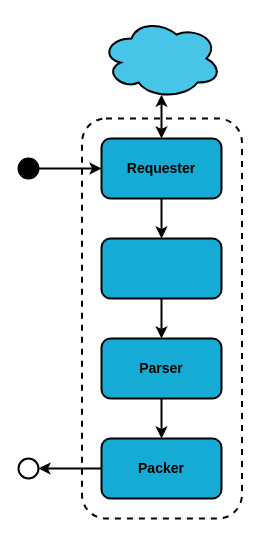
This 260x536 diagram has some shape labels left out. The shapes that lost their labels are listed below. From the top down, each one's centre as x and y in pixels, then its label:
At point 161,58: "Futpédia".
At point 161,268: "Seeker".
